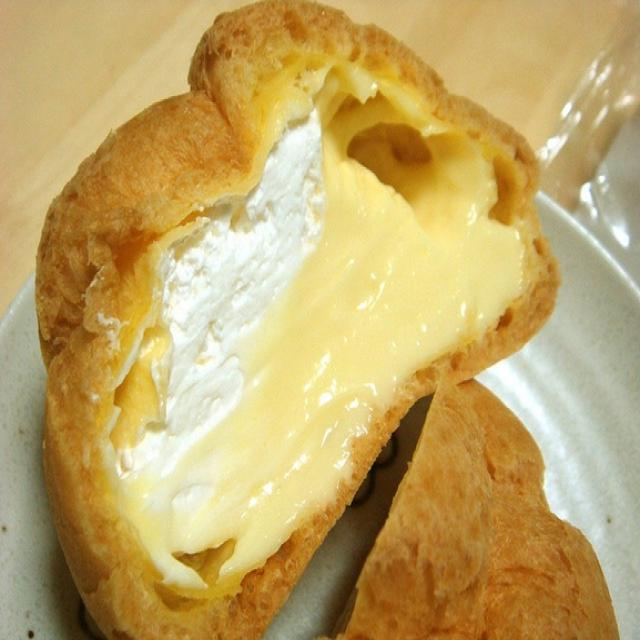炸货点心: (30, 13, 591, 631)
蛋糕甜品: (30, 13, 591, 631)
